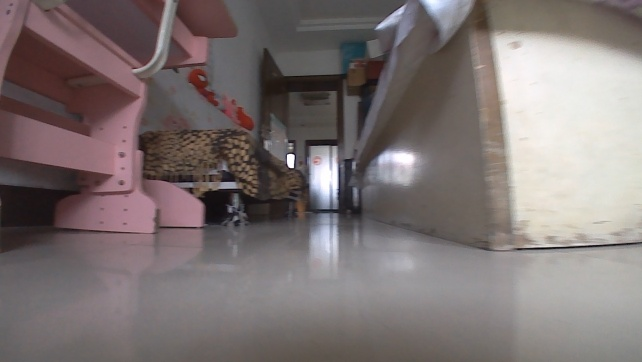bed1: (350, 0, 641, 254)
door_anno: (257, 45, 292, 218)
sofa: (137, 65, 309, 227)
